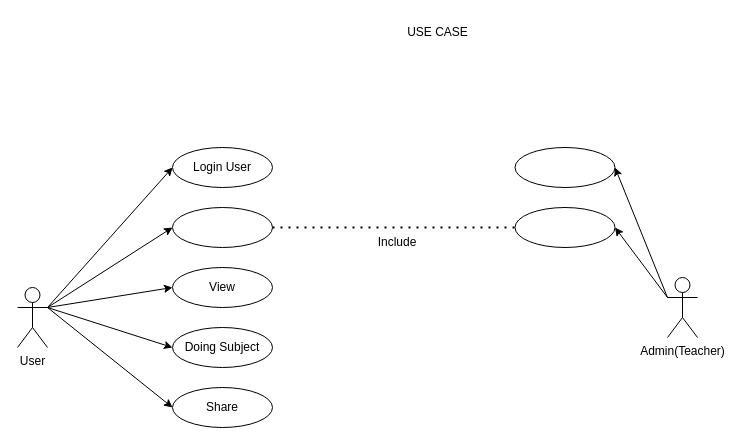
The diagram is 742 pixels wide and 445 high, and some of its shapes have lost their labels. Here are the shapes that lost their labels. From the top down, the box of each, then its label:
(514, 146, 615, 188): Login Admin
(172, 206, 272, 248): Download
(514, 206, 615, 248): Upload
